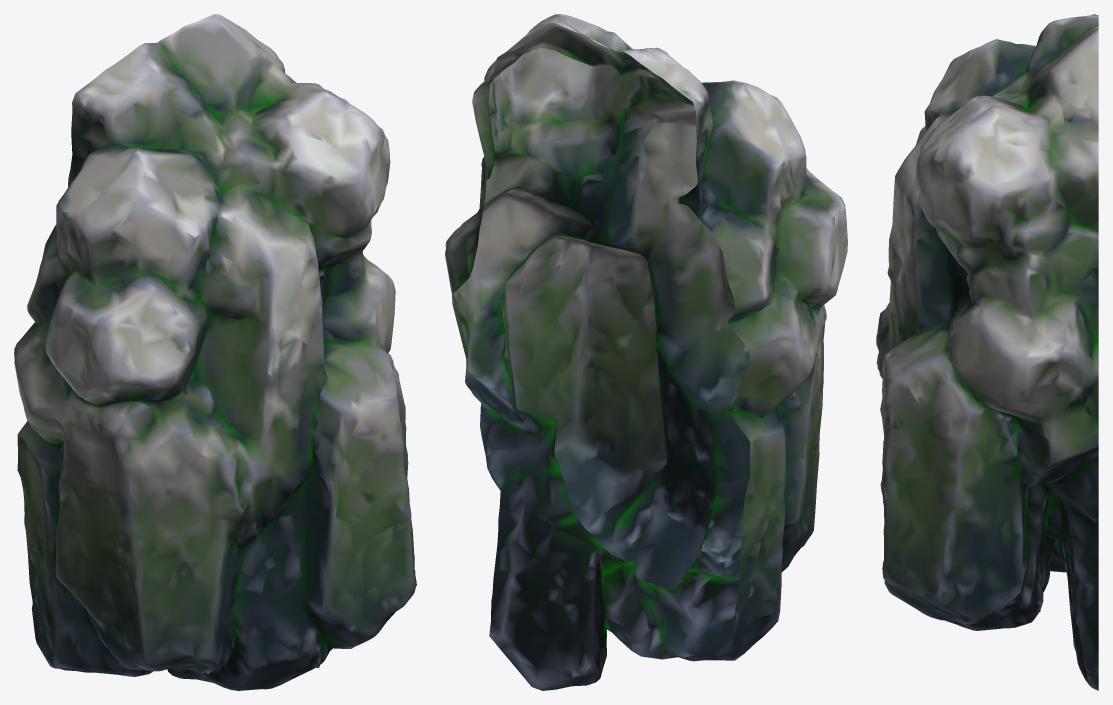
Rendered from M_Cliff_Rock_T17.fbx.
3 views of the same model, side by side, from view 1: azimuth 30°, elevation 25°; view 2: azimuth 150°, elevation 25°; view 3: azimuth 270°, elevation 25° (orthographic). The views are drawn at different scales.
Visible parts, largest first — view 1: M_Cliff_Rock_T17; view 2: M_Cliff_Rock_T17; view 3: M_Cliff_Rock_T17.
Part boxes in pixels (bbox=[...]): M_Cliff_Rock_T17: bbox=[14, 14, 416, 690]; M_Cliff_Rock_T17: bbox=[445, 14, 847, 690]; M_Cliff_Rock_T17: bbox=[876, 14, 1098, 690].
Bounding box in the file's own units: 12.33 × 22.03 × 6.9.
